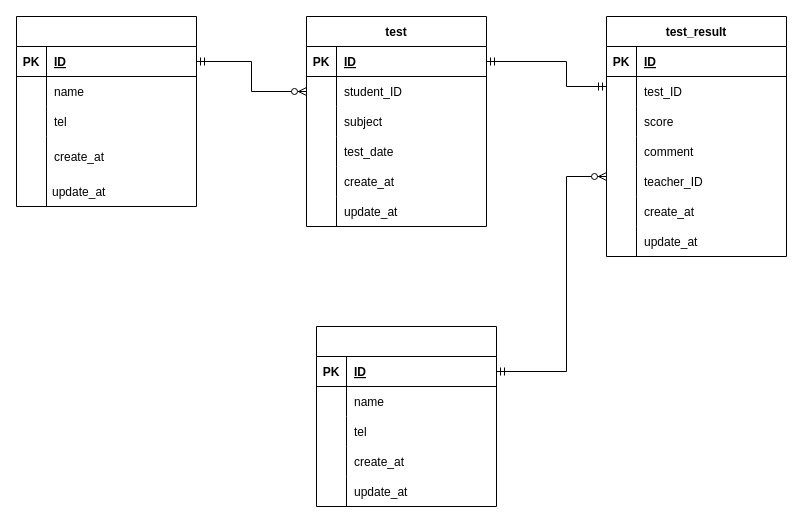
Some shapes in this 803 by 523 pixel diagram are drawn without their labels. Each missing label, with the box of its shape:
student: (16, 16, 196, 206)
teacher: (316, 326, 496, 506)
